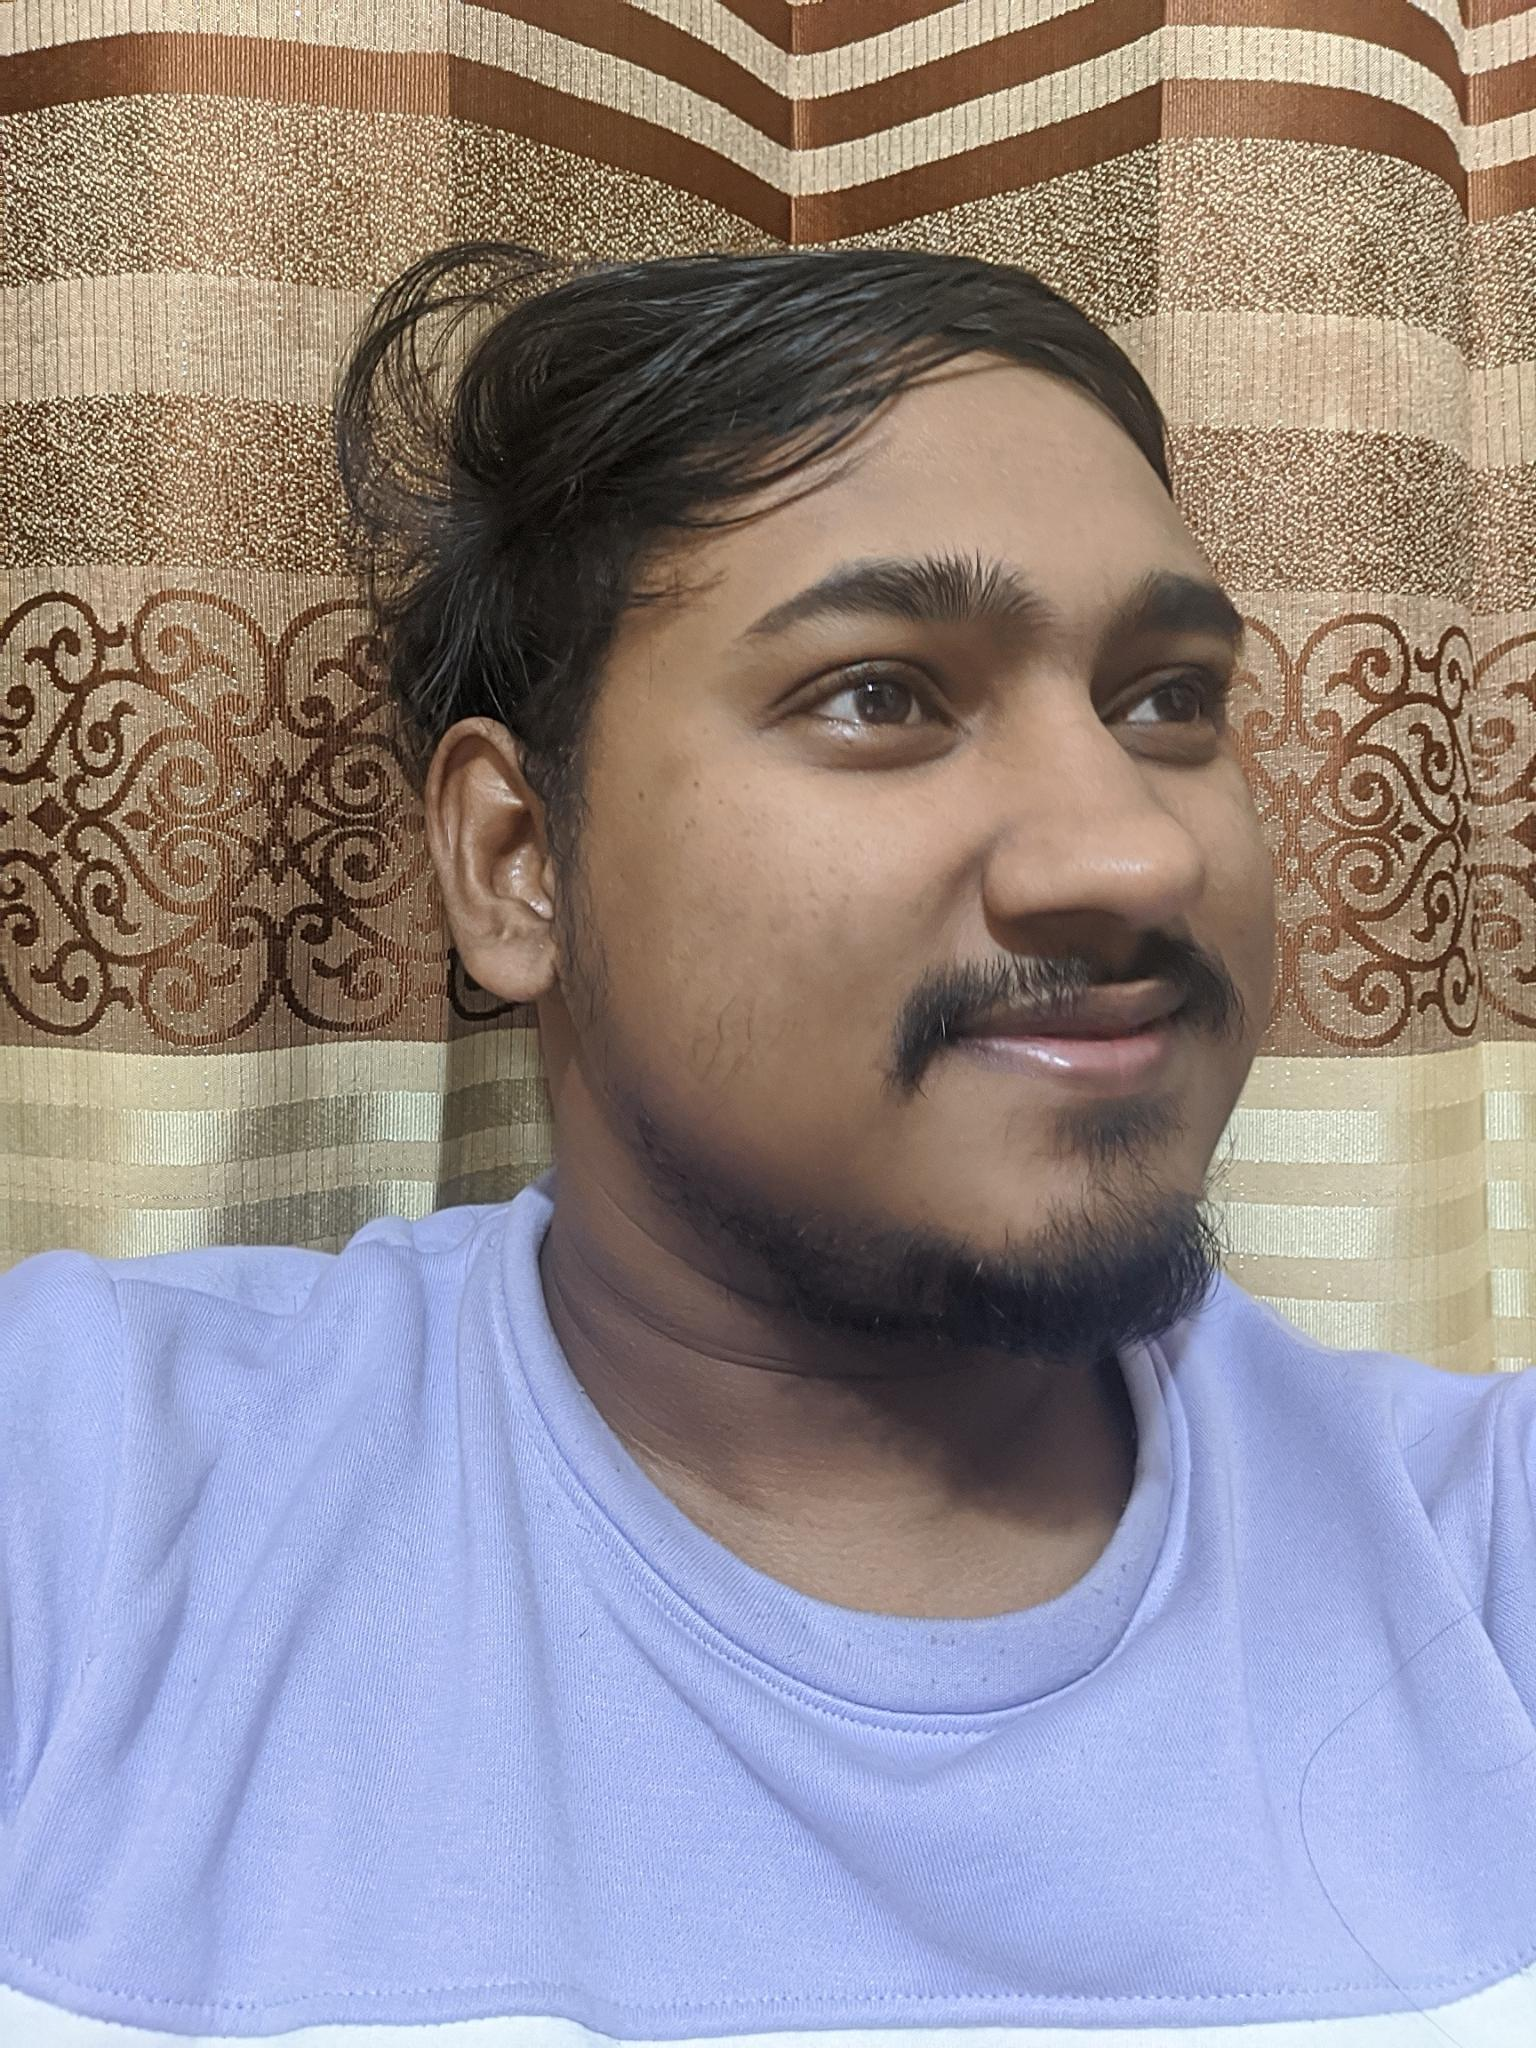Happy: (716, 476, 1288, 1308)
